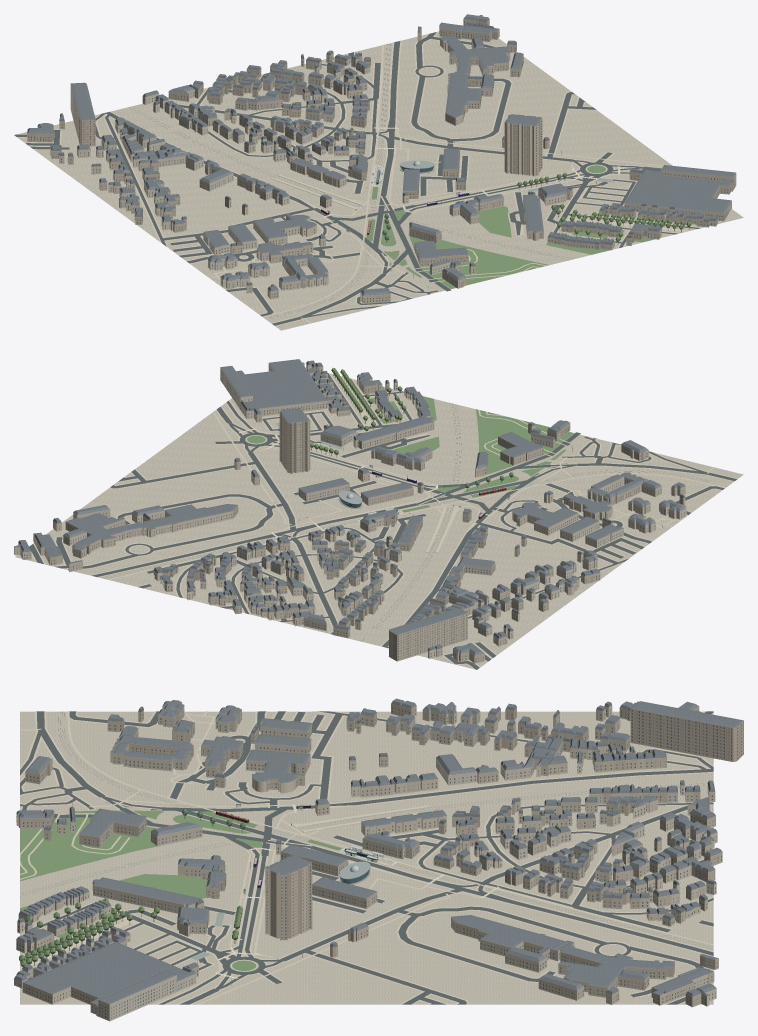
The model's file is franchet-d-esperey.glb.
3 views of the same model, one above another, from view 1: azimuth 30°, elevation 25°; view 2: azimuth 150°, elevation 25°; view 3: azimuth 270°, elevation 25° (orthographic). The views are drawn at different scales.
Parts seen in each view (by area): view 1: Matériau 0, Matériau 10, Matériau 63, Matériau 1, Matériau 12, Matériau 11, Matériau 13, Matériau 9, Matériau 6, Matériau 8, Matériau 2, Matériau 7 (+3 smaller); view 2: Matériau 0, Matériau 10, Matériau 63, Matériau 1, Matériau 12, Matériau 11, Matériau 13, Matériau 9, Matériau 8, Matériau 6, Matériau 7, Matériau 2 (+2 smaller); view 3: Matériau 0, Matériau 10, Matériau 63, Matériau 1, Matériau 12, Matériau 11, Matériau 9, Matériau 13, Matériau 6, Matériau 8, Matériau 7, Matériau 2 (+3 smaller).
Part boxes in pixels (<box>): Matériau 0: <box>18,31,743,330</box>; Matériau 10: <box>27,14,735,295</box>; Matériau 63: <box>16,31,702,326</box>; Matériau 1: <box>14,32,700,325</box>; Matériau 12: <box>27,20,709,288</box>; Matériau 11: <box>59,16,736,289</box>; Matériau 13: <box>50,29,704,303</box>; Matériau 9: <box>27,15,736,303</box>; Matériau 6: <box>91,40,733,290</box>; Matériau 8: <box>28,21,734,302</box>; Matériau 2: <box>366,164,654,288</box>; Matériau 7: <box>28,22,735,302</box>; Matériau 0: <box>15,367,743,669</box>; Matériau 10: <box>14,359,686,655</box>; Matériau 63: <box>31,373,737,668</box>; Matériau 1: <box>29,373,737,669</box>; Matériau 12: <box>18,365,647,663</box>; Matériau 11: <box>14,363,686,658</box>; Matériau 13: <box>33,366,685,657</box>; Matériau 9: <box>14,360,686,663</box>; Matériau 8: <box>17,366,684,661</box>; Matériau 6: <box>63,363,661,627</box>; Matériau 7: <box>16,366,684,661</box>; Matériau 2: <box>245,386,573,512</box>; Matériau 0: <box>20,711,713,1004</box>; Matériau 10: <box>14,698,743,1005</box>; Matériau 63: <box>20,711,713,1004</box>; Matériau 1: <box>20,711,713,1004</box>; Matériau 12: <box>16,704,743,1007</box>; Matériau 11: <box>14,705,716,1021</box>; Matériau 9: <box>14,701,743,1020</box>; Matériau 13: <box>22,708,718,1005</box>; Matériau 6: <box>18,710,717,1016</box>; Matériau 8: <box>15,707,743,1018</box>; Matériau 7: <box>15,707,742,1019</box>; Matériau 2: <box>20,804,341,971</box>.
Size of the model in its own units: 605 by 59.43 by 600.
Materials: 149 (59 with a texture image).
